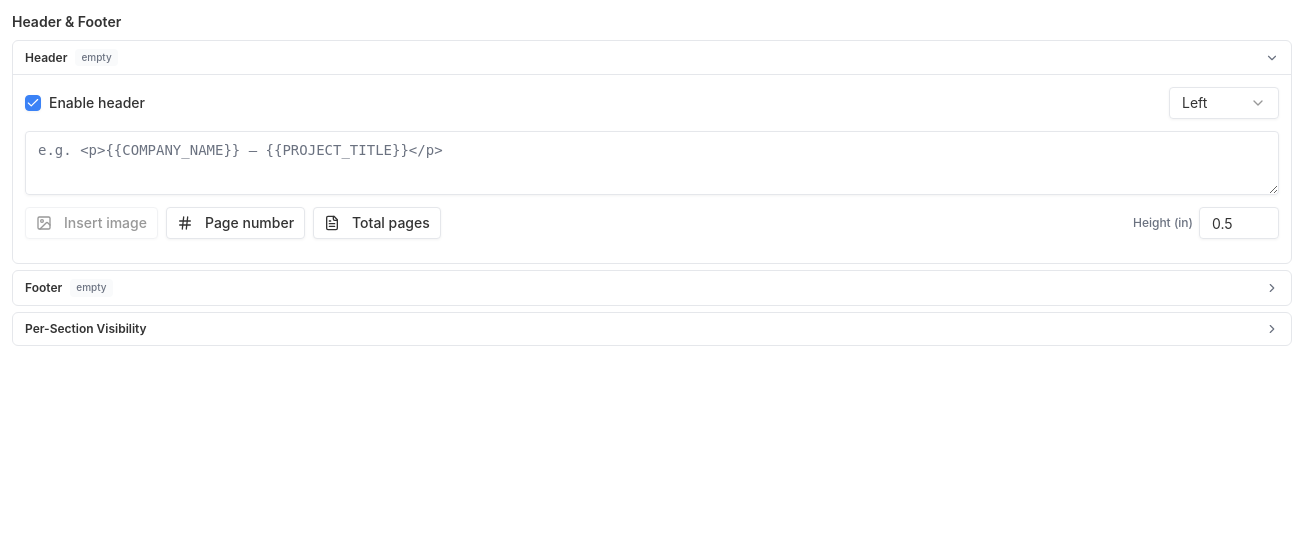
Test case: TemplateFurniturePanel — per-section visibility › lists a row per page-break section, labelled by heading
The image size is (1304, 555).
Click the button "Per-Section Visibility": (86, 328) [13,313,1291,345]
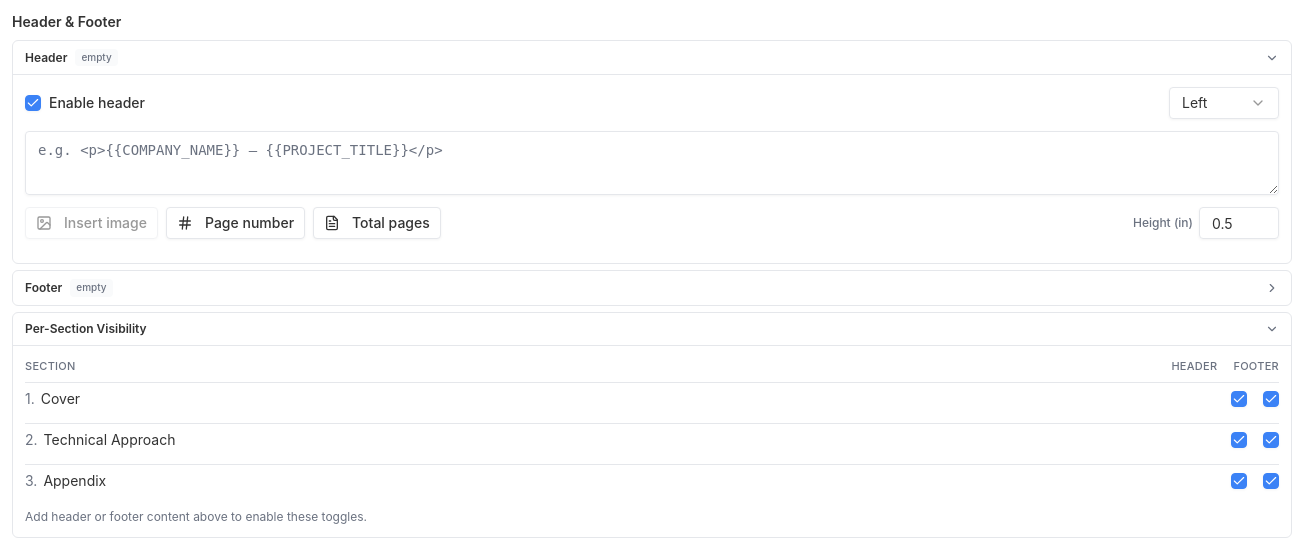
Expected: the text "Cover" is shown, [41,390,80,407]
Expected: the text "Technical Approach" is shown, [44,431,176,448]
Expected: the text "Appendix" is shown, [43,472,106,489]
